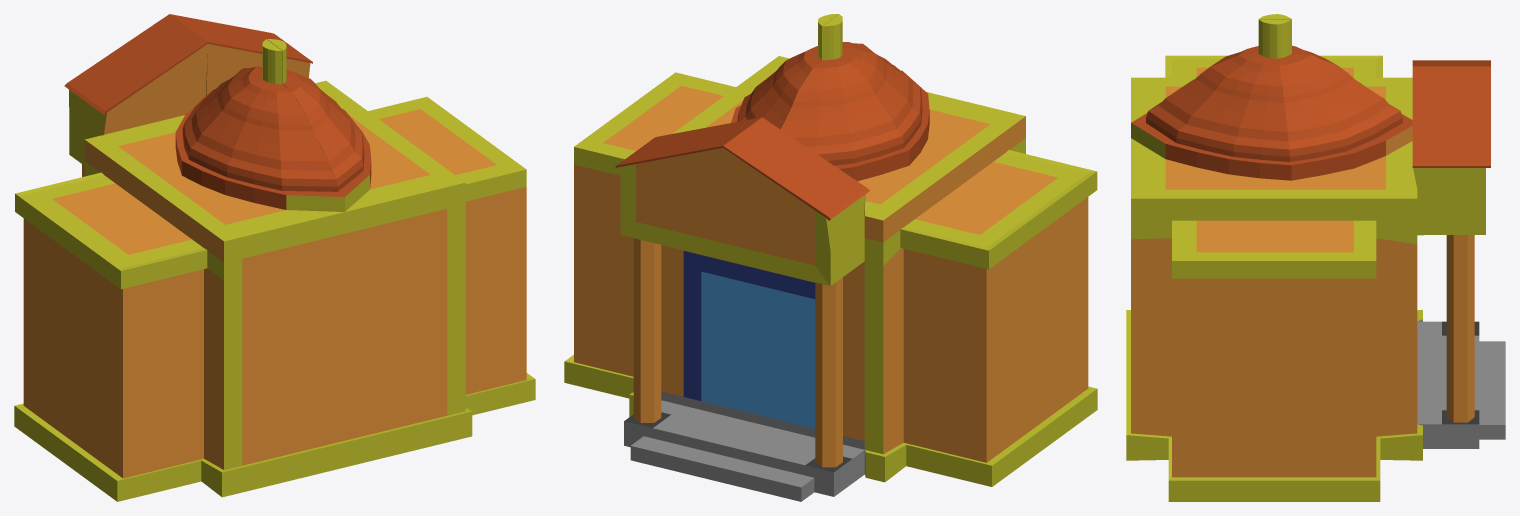
The model's file is TownHall.fbx.
The picture shows the model from 3 angles, left to right: view 1: azimuth 30°, elevation 25°; view 2: azimuth 150°, elevation 25°; view 3: azimuth 270°, elevation 25°; orthographic projection. The views are drawn at different scales.
Visible parts, largest first — view 1: Cube; view 2: Cube; view 3: Cube.
Boxes of the visible parts, box(x1,y1,x2,y2) form: Cube: box(14, 14, 535, 501); Cube: box(564, 14, 1097, 501); Cube: box(1126, 14, 1505, 501).
Bounding box in the file's own units: 3463 × 2920 × 2650.
